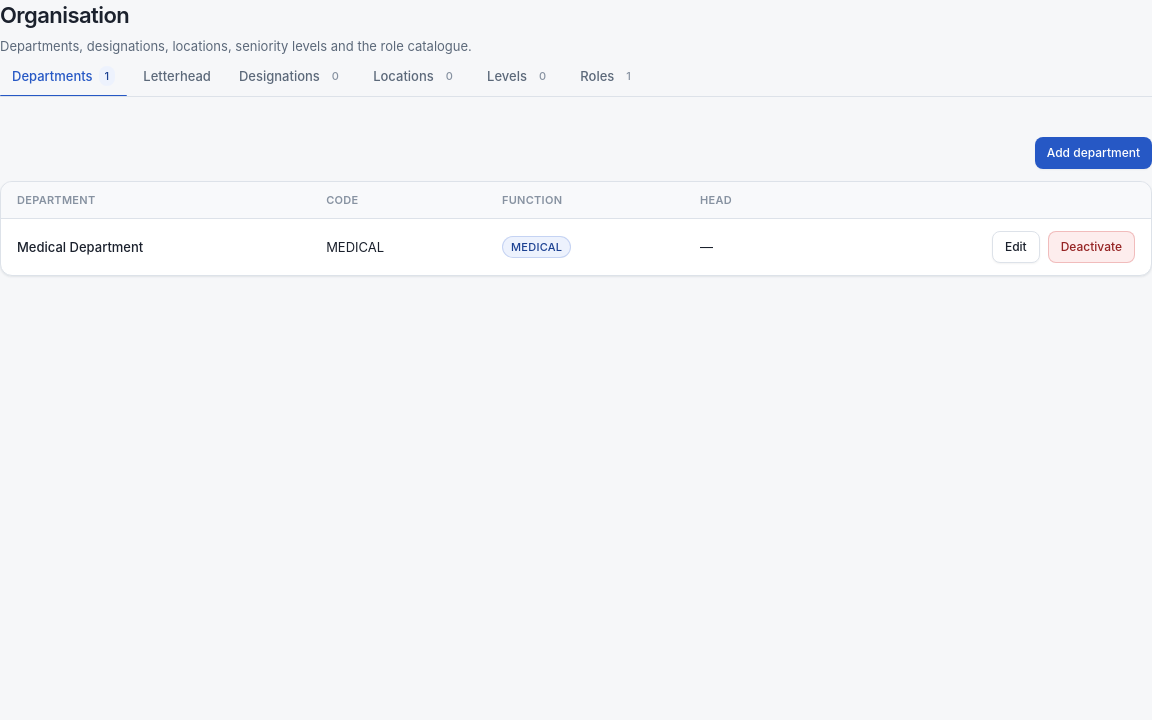
Test case: the Organisation admin panel › opens the permission matrix for a role
The width and height of the screenshot is (1152, 720).
Expected: the text "Medical Department" is shown, [17,239,143,255]
Click the tab "Roles 1". click: click(609, 76)
box: [568,56,649,96]
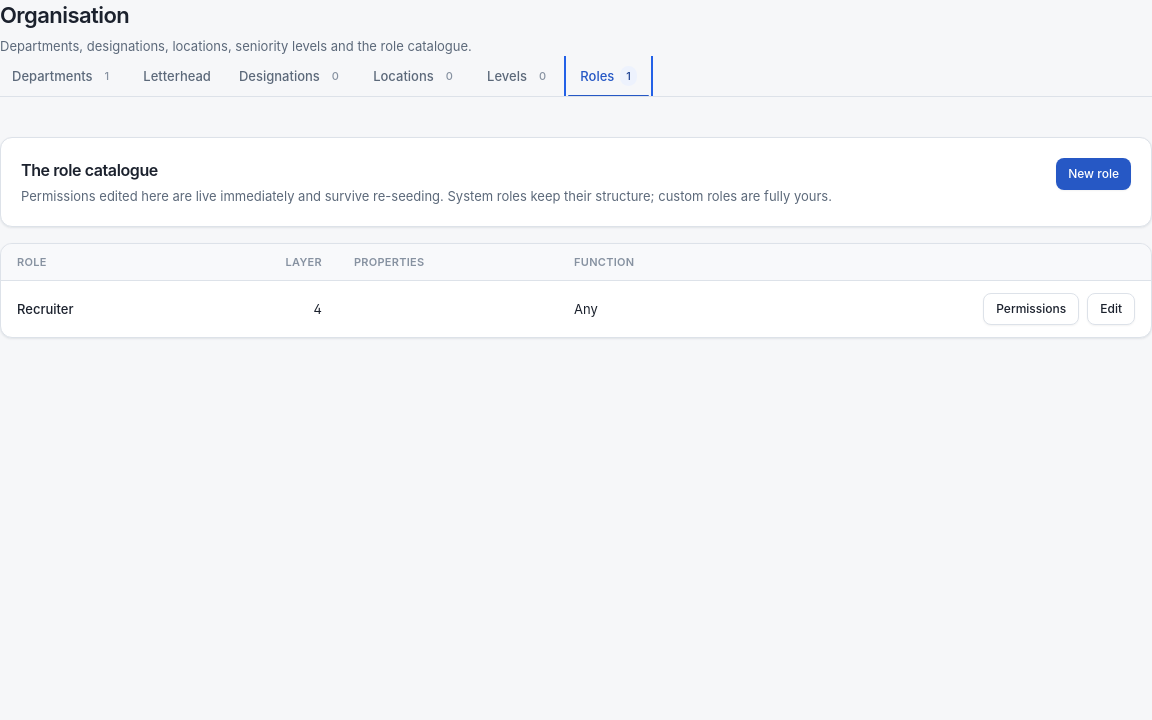
Expected: the text "Recruiter" is shown, [17,301,74,317]
Click the button "Permissions". click: click(1031, 309)
box: [983,293,1079,325]
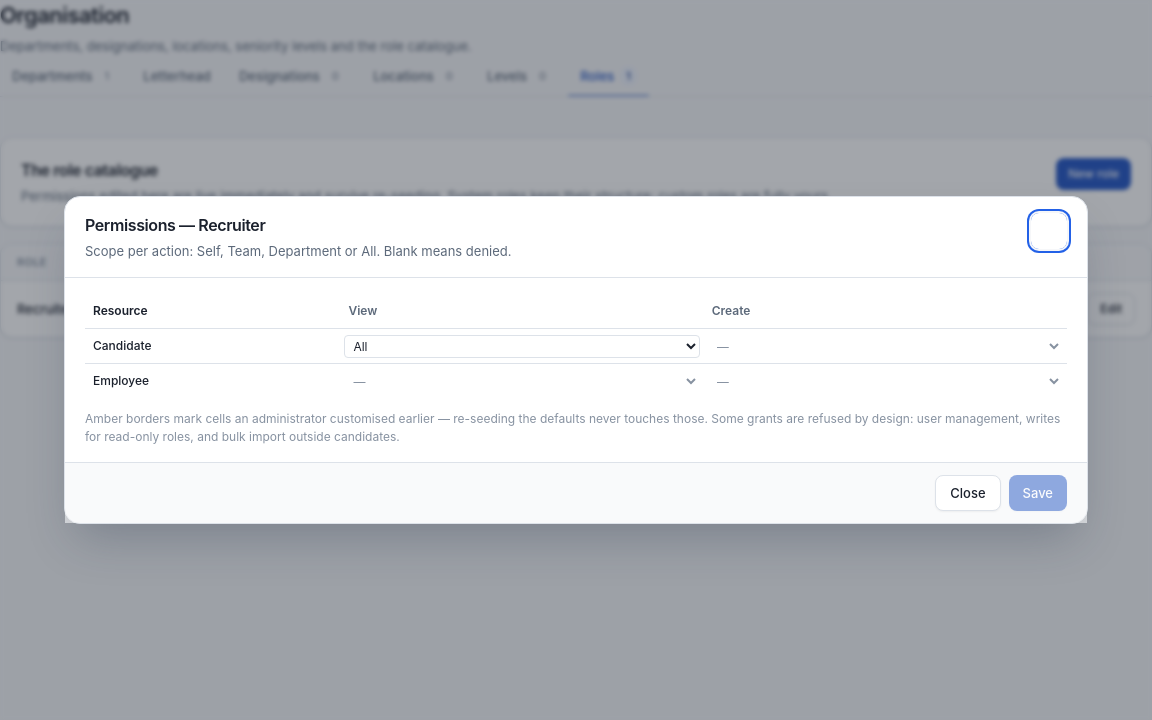
Expected: the heading "Permissions — Recruiter" is shown, [85,215,265,235]
Expected: the dropdown named "candidate view" shows "All", [344,334,700,358]
